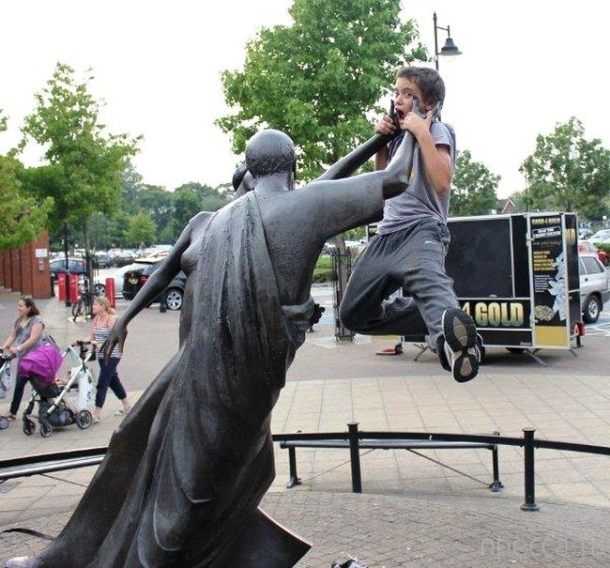person: (335, 63, 490, 384), (72, 295, 135, 423), (1, 295, 59, 423)
person-like: (70, 101, 443, 566)
